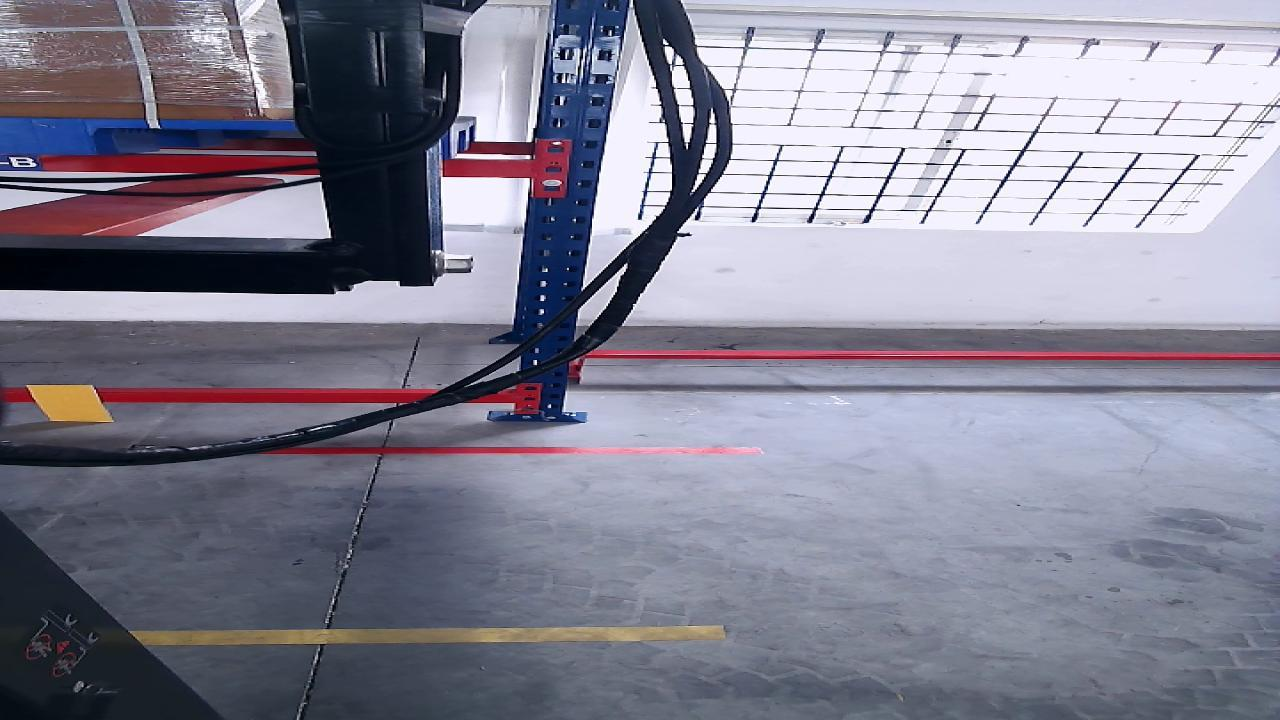h_rack: (3, 393, 517, 403)
orange_strip: (24, 384, 113, 422)
red_line: (252, 447, 760, 454)
small_pallet: (5, 118, 452, 157)
yellow_line: (139, 622, 732, 649)
